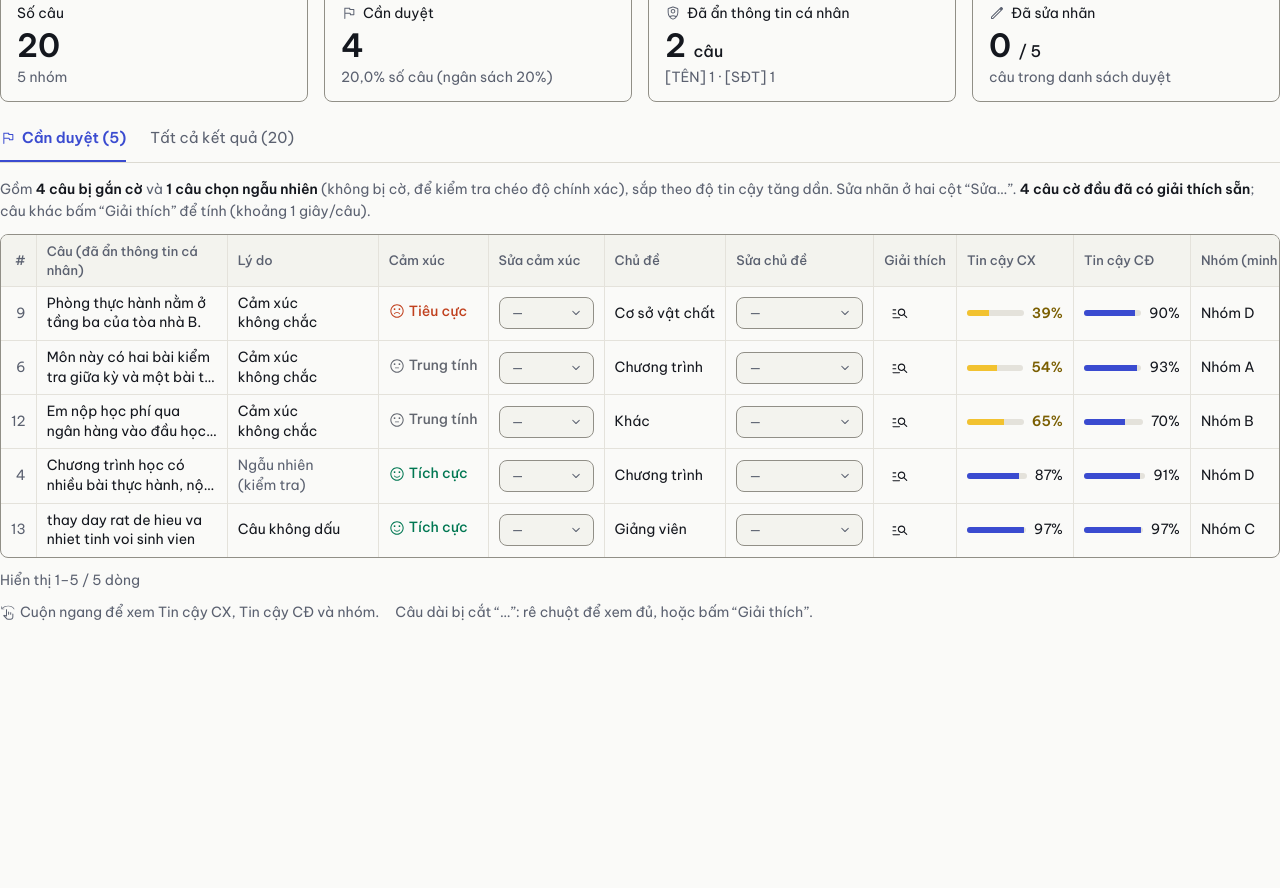
ResultsSection (dữ liệu thật) › tab Tất cả hiện câu có thông tin cá nhân bằng chip, không lộ thông tin gốc
Click the tab "Tất cả kết quả (20)" at (222, 140), box [150, 118, 294, 163]
(page scrolled)
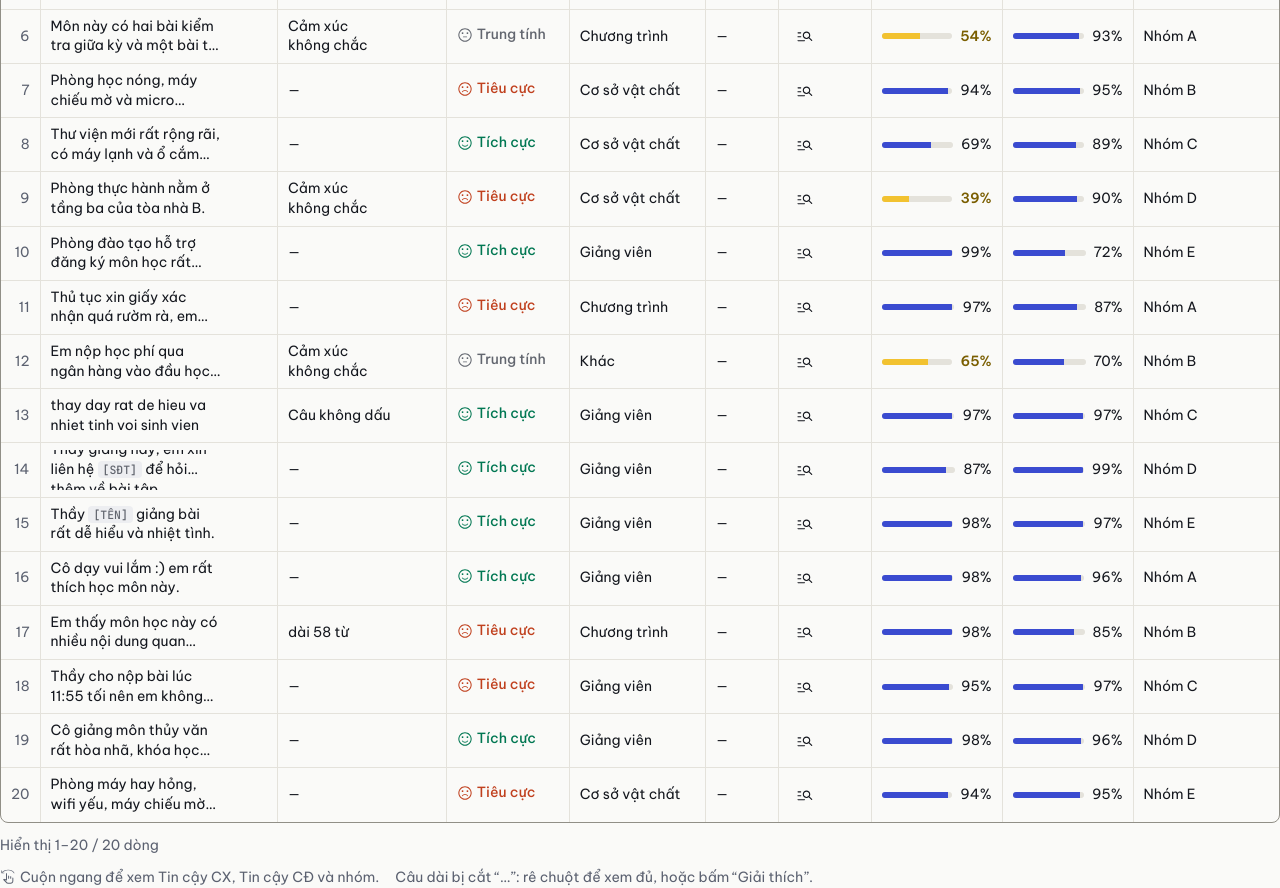
Result: the text "[TÊN]" is shown at [88, 506, 133, 522]
Result: the text "[SĐT]" is shown at [98, 461, 142, 478]
